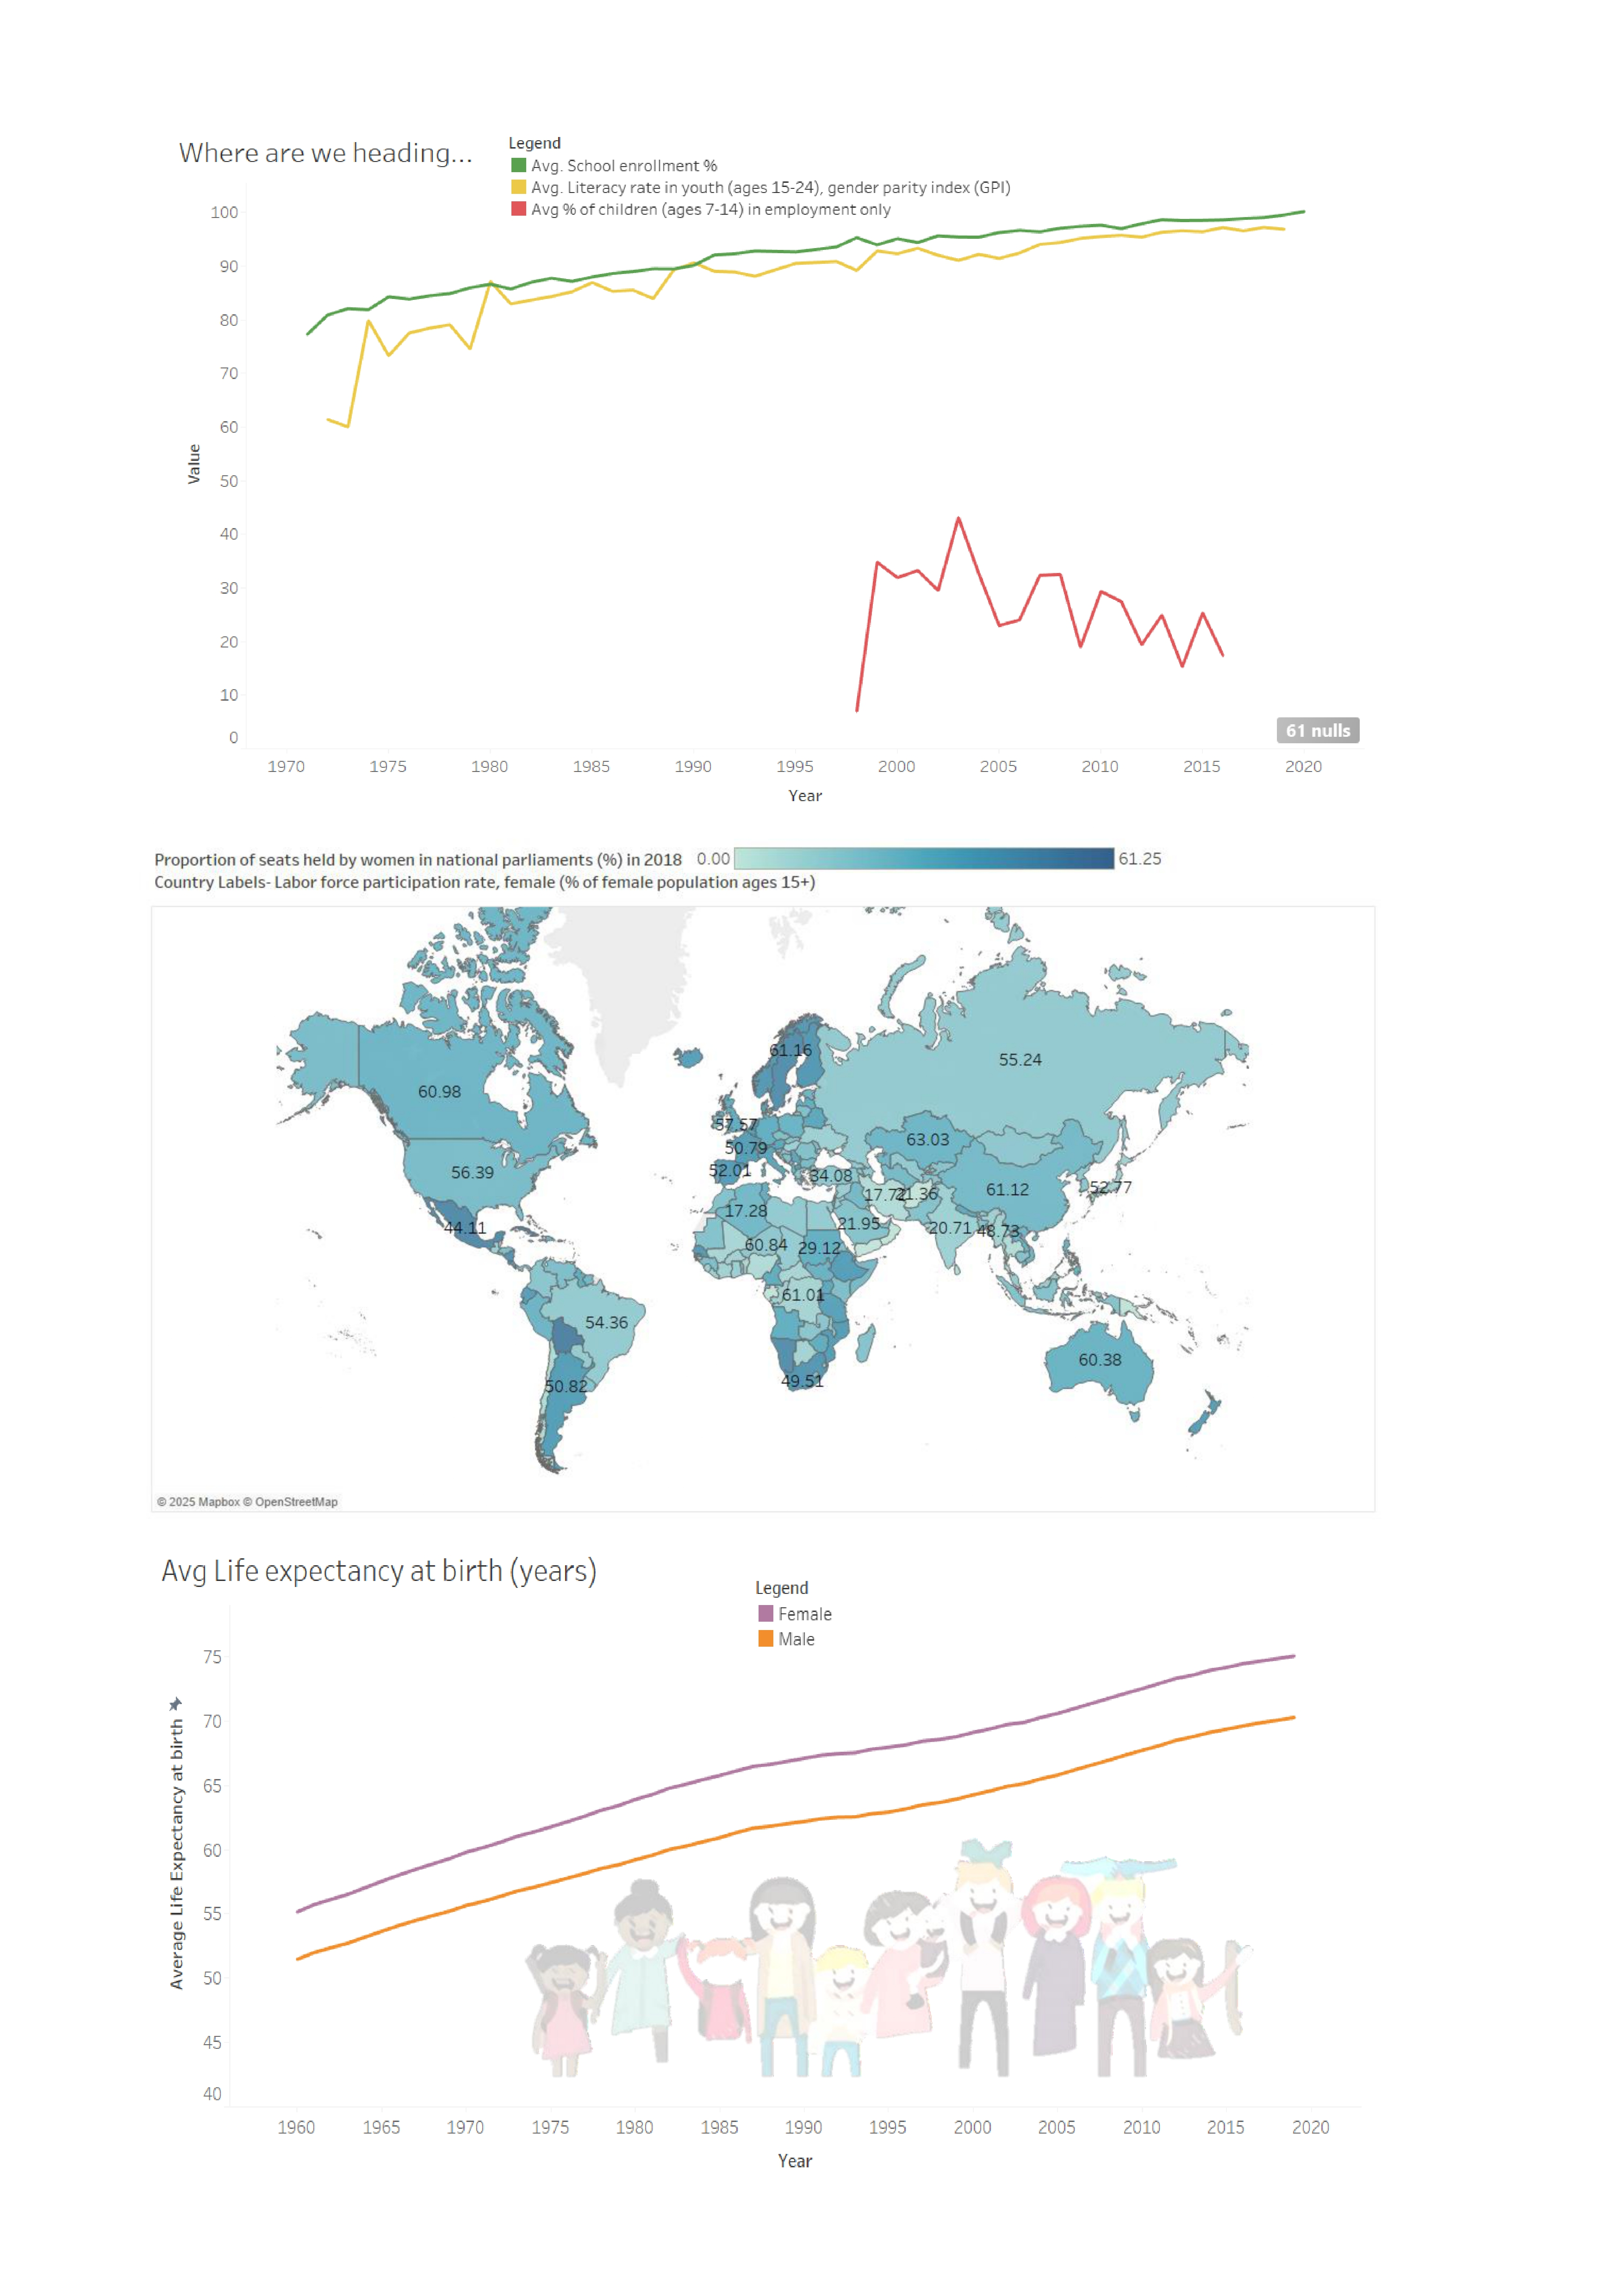

The page's visual inventory and layout, read from the dashboard file:
{"tool":"tableau","page":{"name":"Dashboard 1","canvas":[1200,3000],"ordinal":0},"visuals":[{"type":"worksheet","title":"Sheet 2","mark":"Automatic","cols":["Year"],"box":[39,38,1146,658]},{"type":"legend","title":"Sheet 2","param":"[federated.0n542240bcx9t415v38tx0flb54p].[:Measure Names]","box":[360,39,489,85]},{"type":"legend","title":"Sheet 3","param":"[federated.0n542240bcx9t415v38tx0flb54p].[avg:average_value_Proportion of seats ","box":[543,706,446,54]},{"type":"worksheet","title":"Sheet 3","mark":"Automatic","box":[34,730,1151,627]},{"type":"worksheet","title":"Sheet 1","mark":"Automatic","cols":["Year"],"box":[37,1377,1146,533]},{"type":"legend","title":"Sheet 1","param":"[federated.0n542240bcx9t415v38tx0flb54p].[:Measure Names]","box":[606,1402,177,64]}]}

Visuals, with their boxes on the page's 1200x3000 design canvas (x1, y1, x2, y2). These are canvas units, not pixel positions in the 1624x2296 screenshot, which may show the page scaled, cropped or inside an application window:
"Sheet 2" worksheet: region(39, 38, 1185, 696)
"Sheet 2" legend: region(360, 39, 849, 124)
"Sheet 3" legend: region(543, 706, 989, 760)
"Sheet 3" worksheet: region(34, 730, 1185, 1357)
"Sheet 1" worksheet: region(37, 1377, 1183, 1910)
"Sheet 1" legend: region(606, 1402, 783, 1466)
